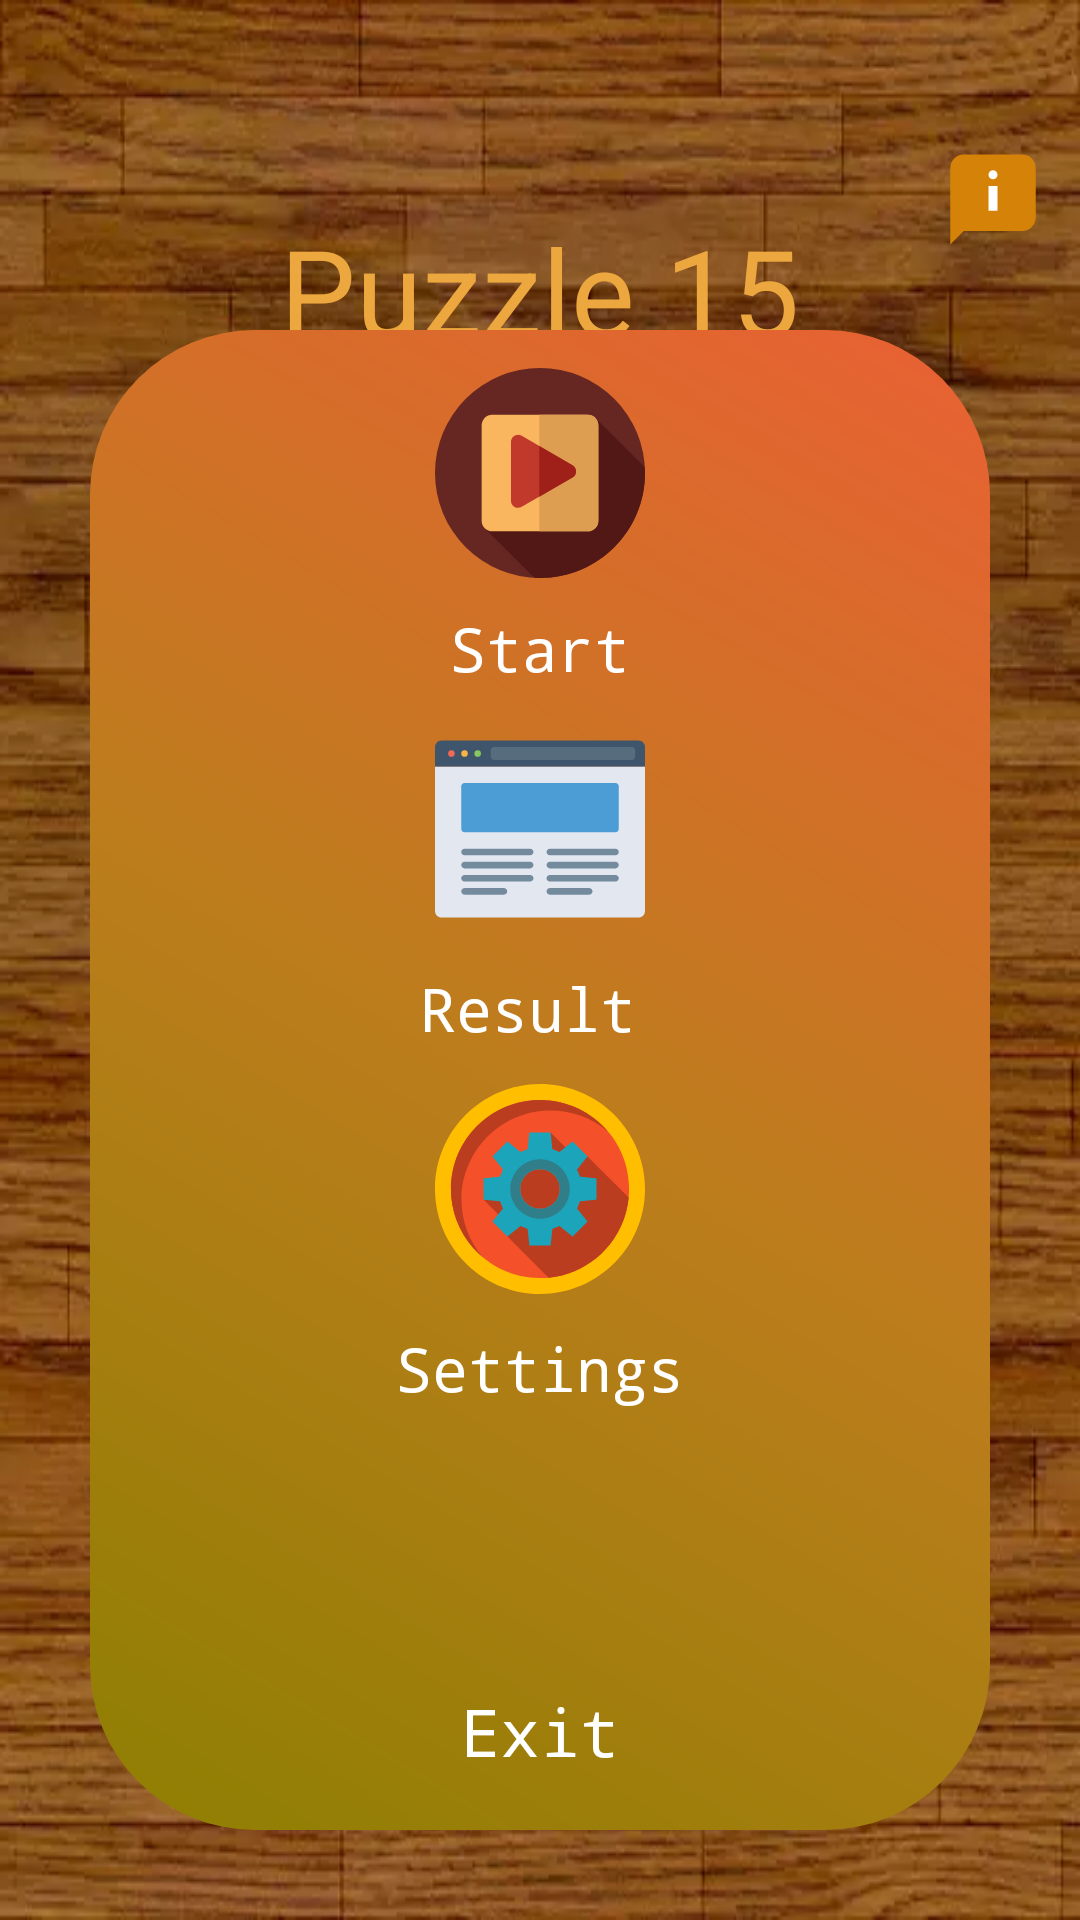

Screen size 1080 x 1920. Icon name, then its box in pixels as [x1,y1,x2,y2]:
about: [939,138,1047,250]
